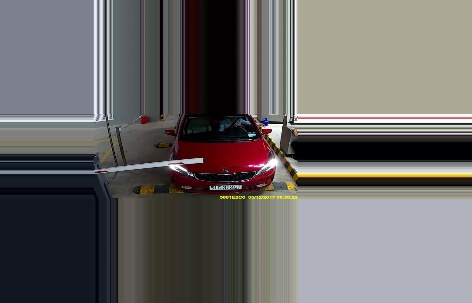plate: (209, 179, 243, 191)
